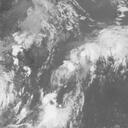cyclone: (37, 33, 109, 115)
